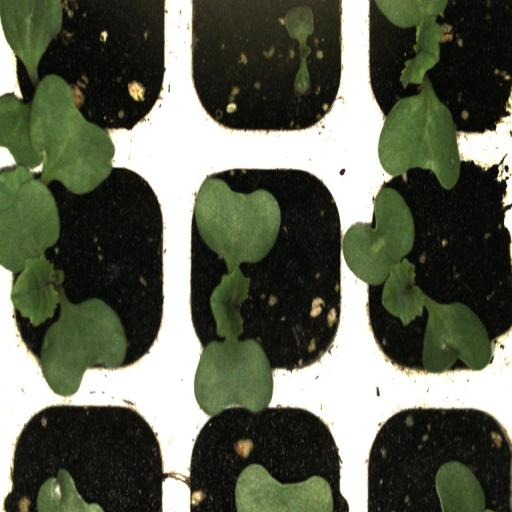Folha: (235, 463, 334, 512), (241, 0, 337, 48), (36, 468, 104, 512), (435, 460, 487, 512)
Germinacao: (0, 147, 174, 396), (178, 150, 355, 384), (360, 146, 512, 384), (178, 0, 356, 147), (355, 0, 512, 143)
